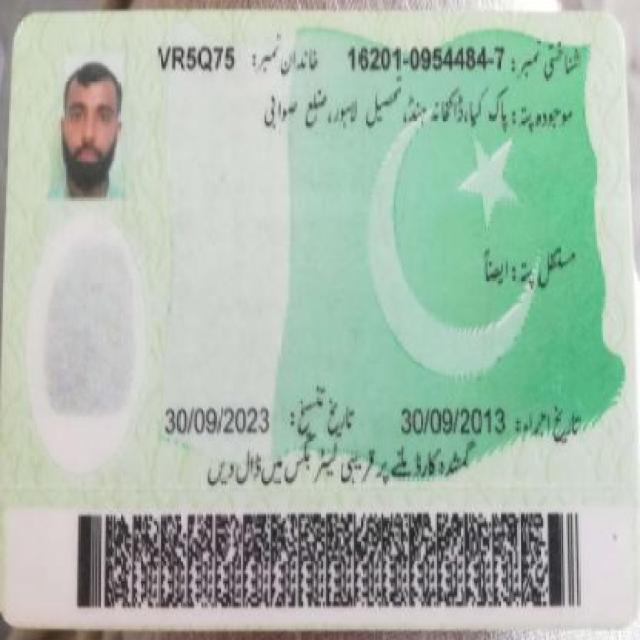Back: (15, 20, 614, 620)
